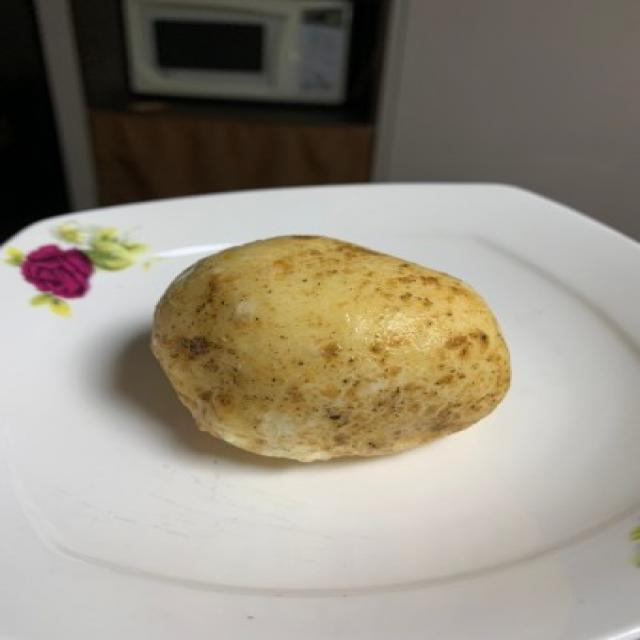potato: (150, 232, 535, 466)
